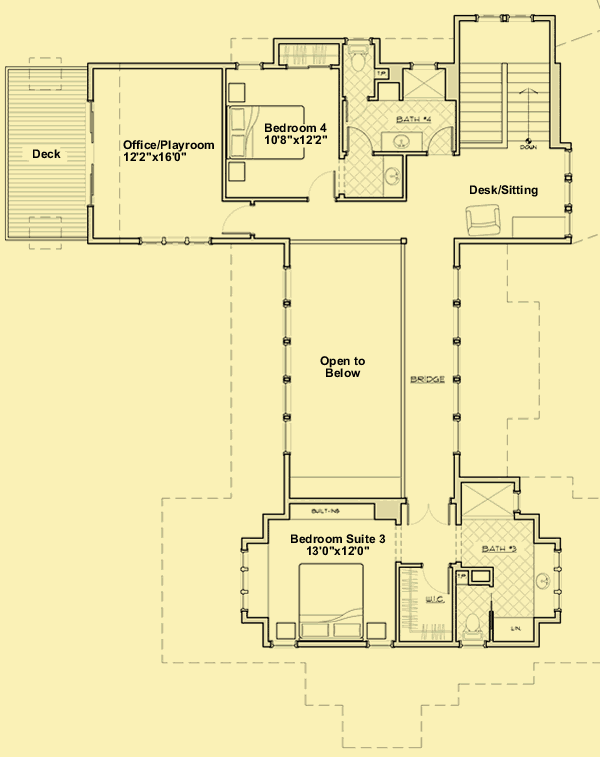bed: (295, 559, 368, 640), (227, 105, 309, 160)
door: (404, 501, 453, 529), (305, 168, 342, 204), (344, 121, 377, 157), (219, 201, 252, 236), (417, 563, 452, 596), (425, 123, 456, 152)
large_sink: (458, 610, 489, 646), (345, 42, 374, 75)
small_sink: (531, 545, 560, 615), (381, 154, 406, 200), (380, 129, 427, 152)
stairs: (457, 57, 549, 156)
window: (136, 234, 211, 251), (562, 145, 575, 237), (239, 544, 250, 615)
